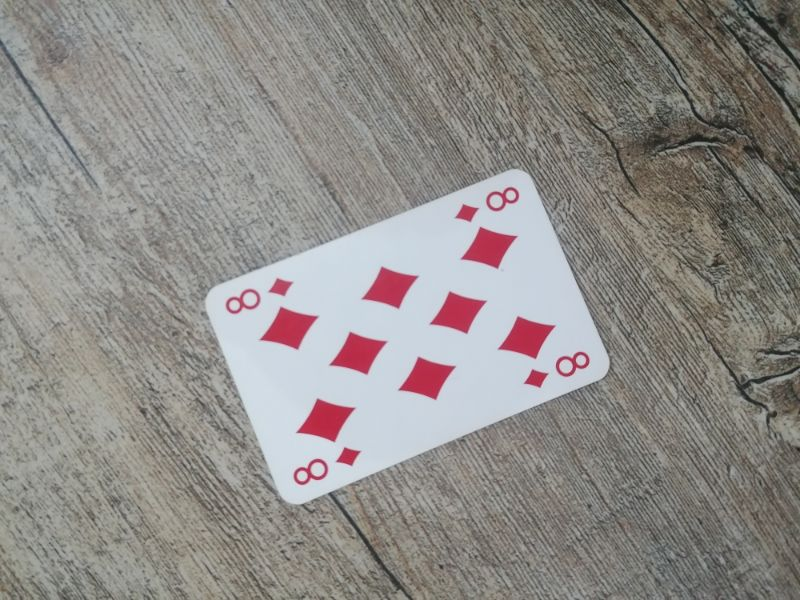8d: (219, 266, 298, 320), (448, 179, 523, 232), (520, 347, 598, 395), (288, 442, 363, 489)
